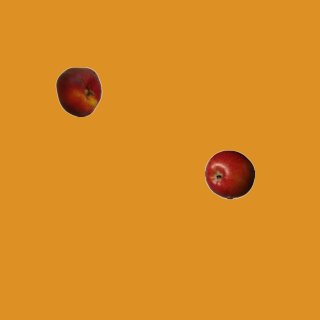Apple Braeburn: (204, 149, 254, 199)
Nectarine Flat: (53, 66, 103, 116)
